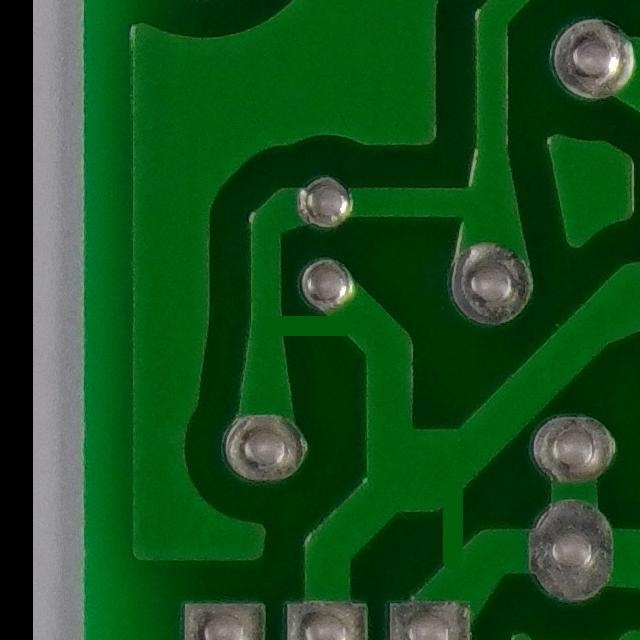short: (254, 270, 386, 370)
